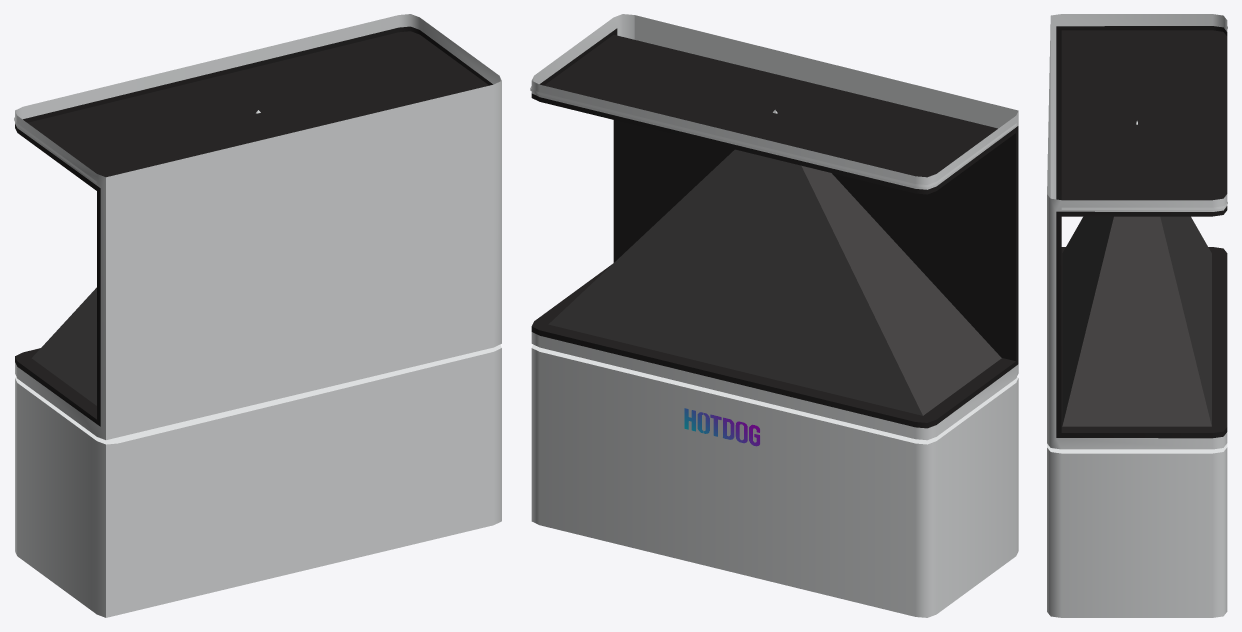
The model's file is M_BRwoshigui02.FBX.
3 renders of one model, left to right at view 1: azimuth 30°, elevation 25°; view 2: azimuth 150°, elevation 25°; view 3: azimuth 270°, elevation 25°, orthographic. The views are drawn at different scales.
Parts seen in each view (by area): view 1: M_BRwoshigui02_01, M_BRwoshigui02_02, M_BRwoshigui02_05; view 2: M_BRwoshigui02_01, M_BRwoshigui02_02, M_BRwoshigui02_05, M_BRwoshigui02_03; view 3: M_BRwoshigui02_01, M_BRwoshigui02_02, M_BRwoshigui02_05.
Boxes of the visible parts, <box> form: M_BRwoshigui02_01: <box>15,14,501,617</box>; M_BRwoshigui02_02: <box>32,287,96,405</box>; M_BRwoshigui02_05: <box>14,117,501,444</box>; M_BRwoshigui02_01: <box>531,14,1018,617</box>; M_BRwoshigui02_02: <box>548,149,1001,415</box>; M_BRwoshigui02_05: <box>530,86,1018,444</box>; M_BRwoshigui02_03: <box>684,408,760,446</box>; M_BRwoshigui02_01: <box>1047,14,1227,617</box>; M_BRwoshigui02_02: <box>1062,216,1211,426</box>; M_BRwoshigui02_05: <box>1047,26,1227,453</box>.
Bounding box in the file's own units: 2.71 × 2.82 × 1.11.
